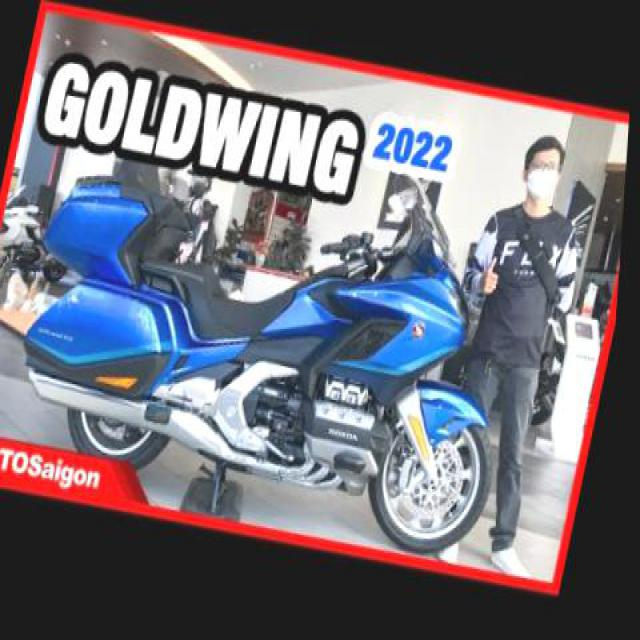Gold Wing: (0, 80, 563, 606)
